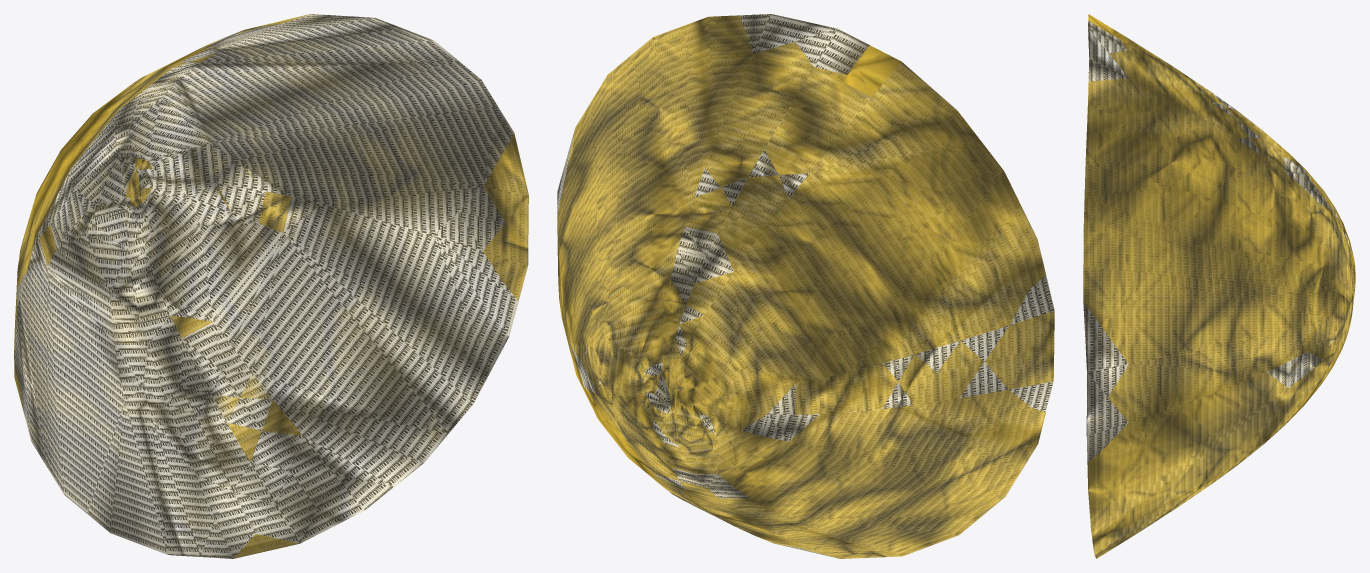
The model's file is model_align.obj.
3 renders of one model, left to right at view 1: azimuth 30°, elevation 25°; view 2: azimuth 150°, elevation 25°; view 3: azimuth 270°, elevation 25°, orthographic. The views are drawn at different scales.
Size of the model in its own units: 0.1532 by 0.1532 by 0.0769.
